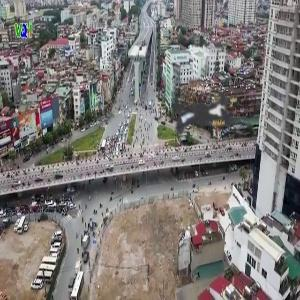drone: (125, 40, 274, 189)
